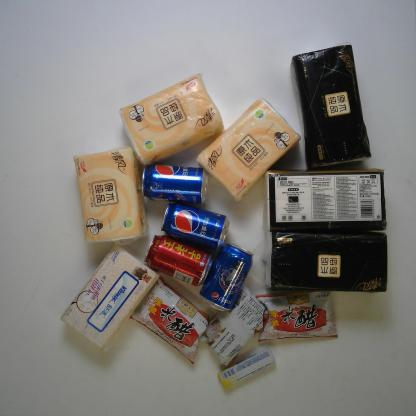Candy: (218, 348, 275, 390)
Drink: (197, 242, 254, 314), (143, 234, 214, 285), (160, 201, 231, 250), (140, 164, 209, 204)
Seasoner: (128, 274, 210, 366), (197, 284, 270, 369), (255, 290, 339, 341)
Tissue: (194, 98, 304, 203), (288, 44, 372, 174), (59, 242, 161, 348), (116, 74, 226, 166), (264, 229, 390, 296), (263, 168, 388, 234), (72, 146, 151, 248)
